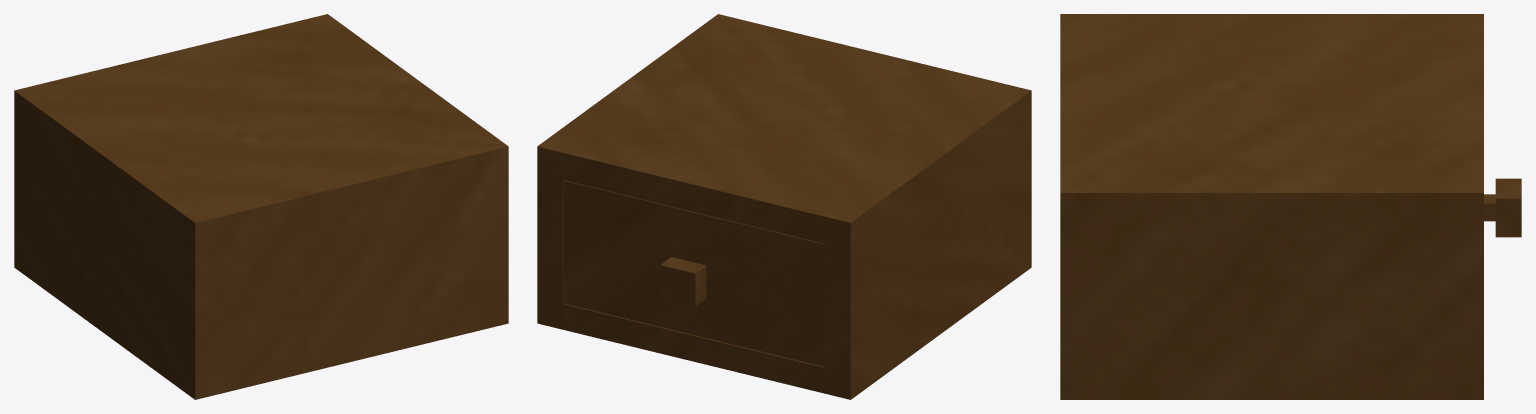
The model's file is kitchen_wooden_half_cabinet_1.obj.
3 views of the same model, side by side, from view 1: azimuth 30°, elevation 25°; view 2: azimuth 150°, elevation 25°; view 3: azimuth 270°, elevation 25° (orthographic). The views are drawn at different scales.
Parts seen in each view (by area): view 1: Cube.001; view 2: Cube.001; view 3: Cube.001.
Boxes of the visible parts, x1,y1,x2,y2 form: Cube.001: (14,14,508,399); Cube.001: (537,14,1031,399); Cube.001: (1060,14,1521,399).
Bounding box in the file's own units: 2 × 1.08 × 2.18.
